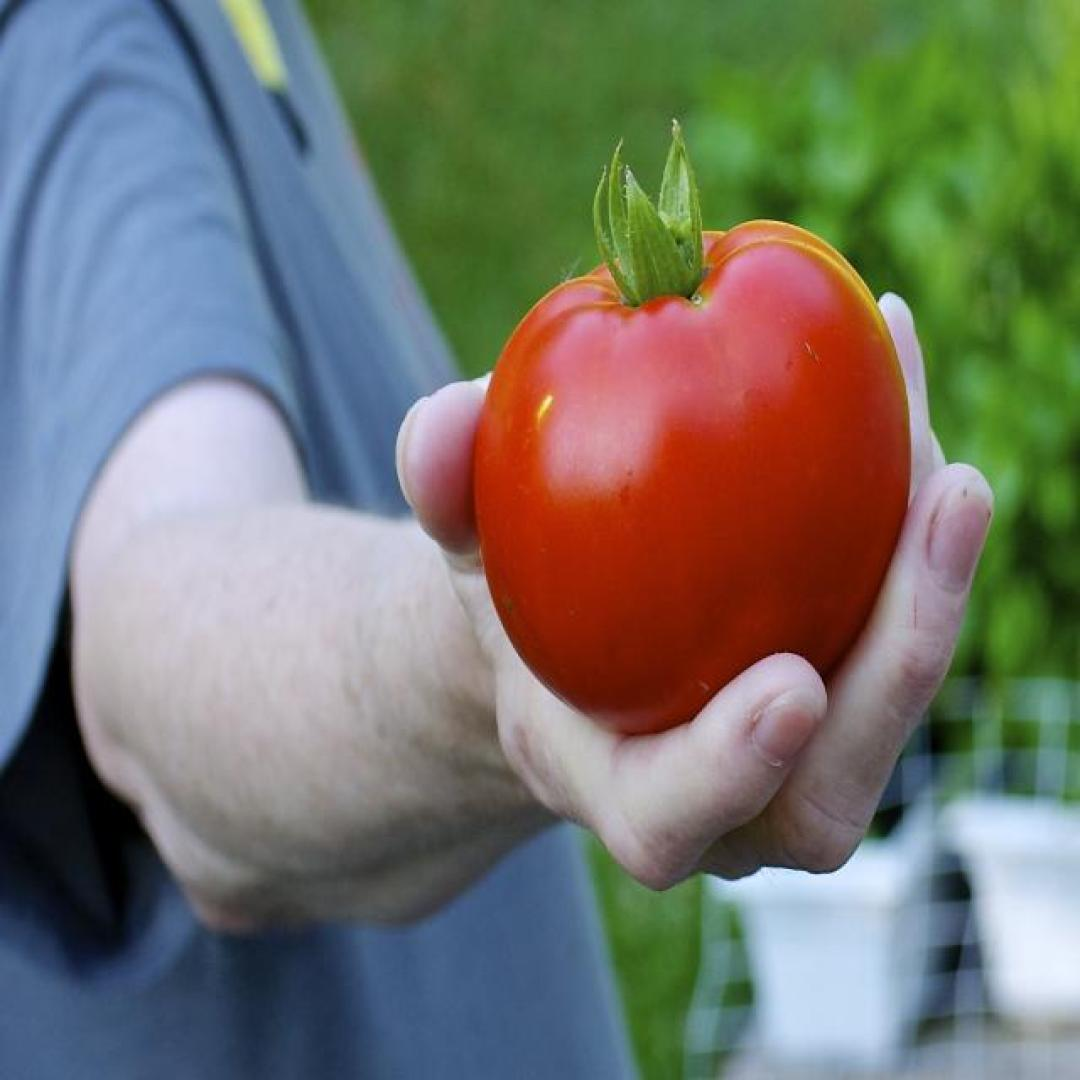matang: (471, 118, 911, 738)
